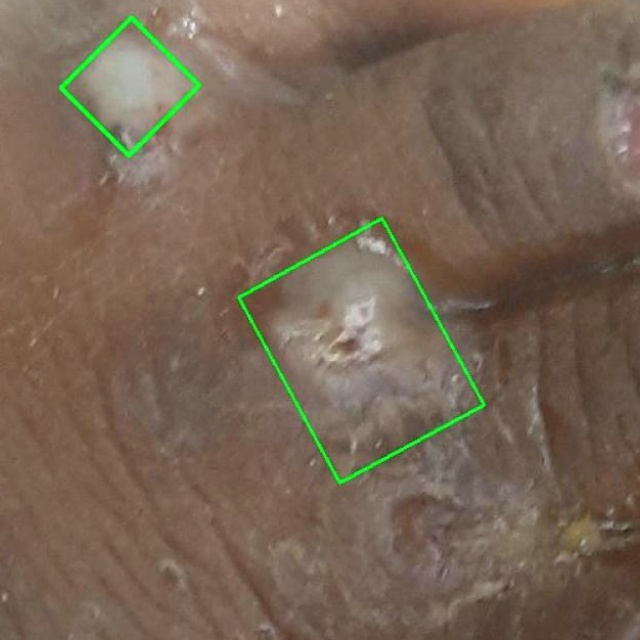Eczema: (238, 219, 483, 483), (61, 17, 199, 155)
